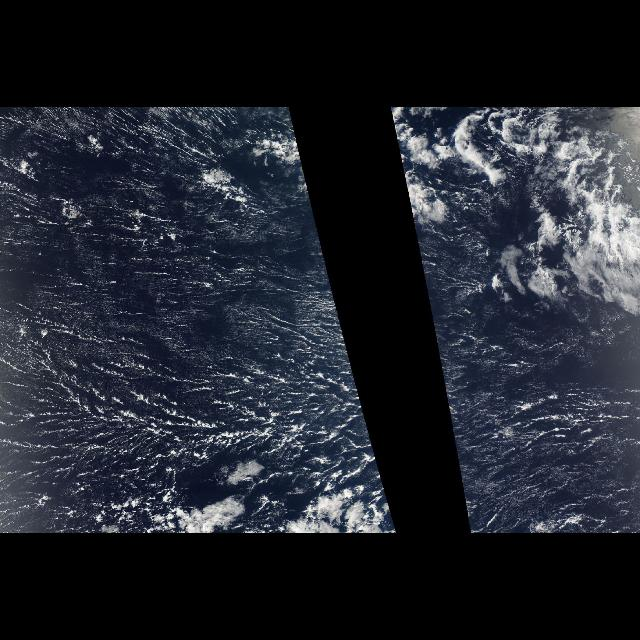Gravel: (2, 293, 384, 489)
Sugar: (1, 108, 369, 430), (433, 273, 639, 491)
